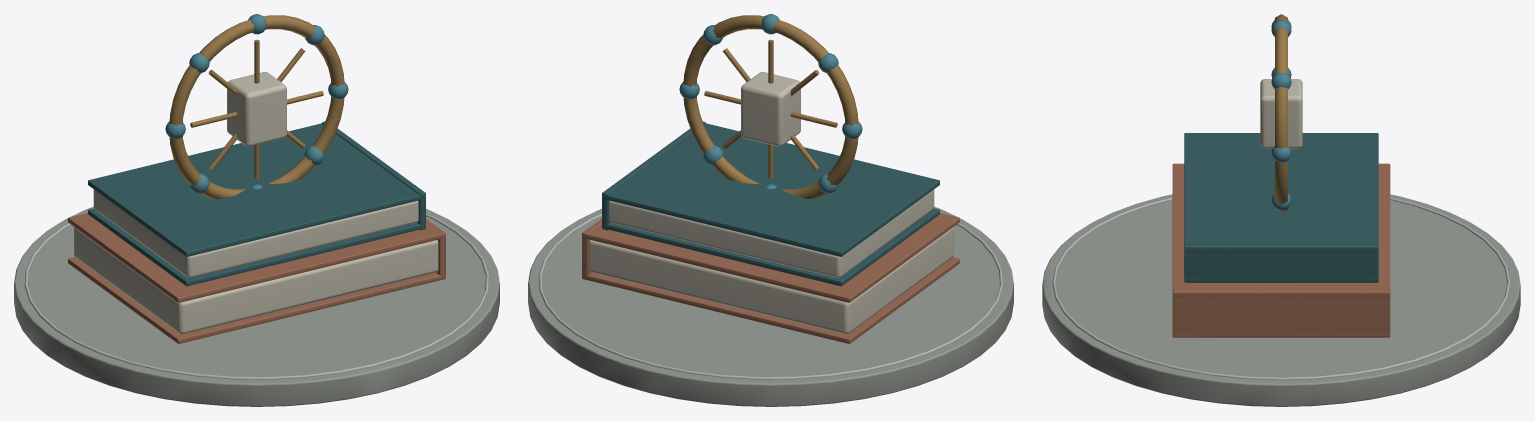
Rendered from idea-92210d64.glb.
3 views of the same model, side by side, from view 1: azimuth 30°, elevation 25°; view 2: azimuth 150°, elevation 25°; view 3: azimuth 270°, elevation 25° (orthographic).
Visible parts, largest first — view 1: Karmic Sanskrit AGI; view 2: Karmic Sanskrit AGI; view 3: Karmic Sanskrit AGI.
Boxes of the visible parts, bbox=[...] form: Karmic Sanskrit AGI: bbox=[14, 14, 499, 406]; Karmic Sanskrit AGI: bbox=[528, 14, 1013, 406]; Karmic Sanskrit AGI: bbox=[1042, 14, 1520, 406].
Size of the model in its own units: 4.5 by 2.96 by 4.5.
